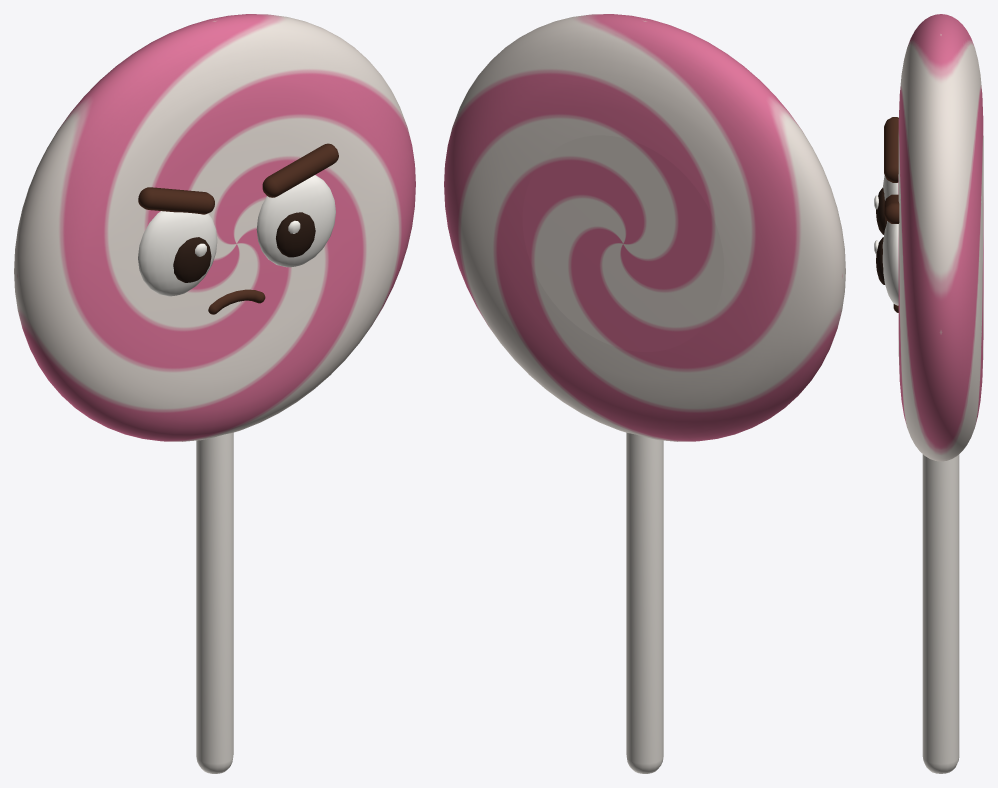
The model's file is lollipop_tree_grumpy.glb.
The picture shows the model from 3 angles, left to right: view 1: azimuth 30°, elevation 25°; view 2: azimuth 150°, elevation 25°; view 3: azimuth 270°, elevation 25°; orthographic projection.
Parts seen in each view (by area): view 1: lollipop_tree_grumpy; view 2: lollipop_tree_grumpy; view 3: lollipop_tree_grumpy.
Boxes of the visible parts, x1,y1,x2,y2 form: lollipop_tree_grumpy: (14, 14, 415, 773); lollipop_tree_grumpy: (444, 14, 845, 773); lollipop_tree_grumpy: (874, 14, 983, 773).
Bounding box in the file's own units: 2.2 × 4 × 0.5385.
Materials: 5 (1 with a texture image).
